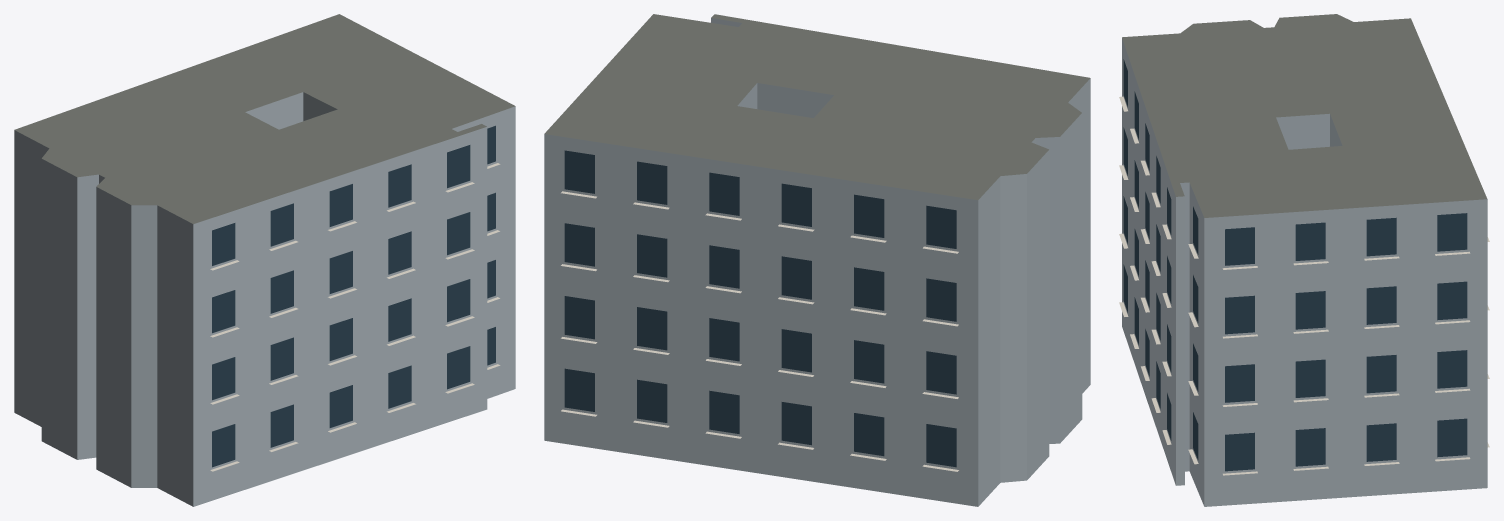
3 renders of one model, left to right at view 1: azimuth 30°, elevation 25°; view 2: azimuth 150°, elevation 25°; view 3: azimuth 270°, elevation 25°, orthographic. The views are drawn at different scales.
Parts seen in each view (by area): view 1: Footprint 0, Inferred window bays, Window sills; view 2: Footprint 0, Inferred window bays, Window sills; view 3: Footprint 0, Inferred window bays, Window sills.
Boxes of the visible parts, left/top/right/bottom form: Footprint 0: left=14, top=14, right=515, bottom=506; Inferred window bays: left=212, top=125, right=495, bottom=467; Window sills: left=210, top=163, right=500, bottom=471; Footprint 0: left=544, top=14, right=1090, bottom=506; Inferred window bays: left=564, top=150, right=956, bottom=467; Window sills: left=561, top=191, right=958, bottom=471; Footprint 0: left=1122, top=14, right=1487, bottom=506; Inferred window bays: left=1123, top=59, right=1467, bottom=471; Window sills: left=1119, top=96, right=1489, bottom=475.
Size of the model in its own units: 19.84 by 13.02 by 15.15.
